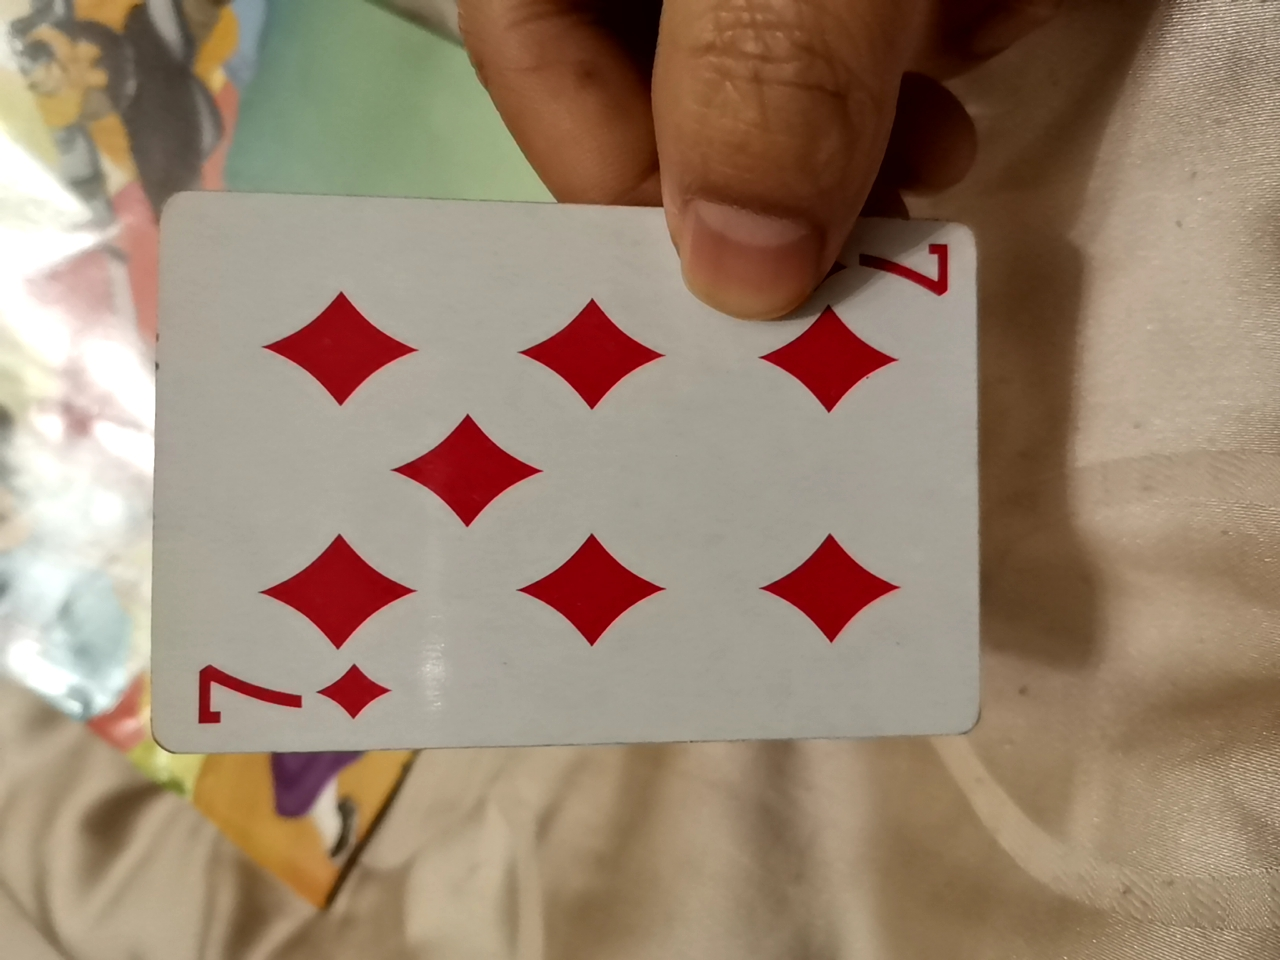fk 7: (113, 182, 1004, 762)
